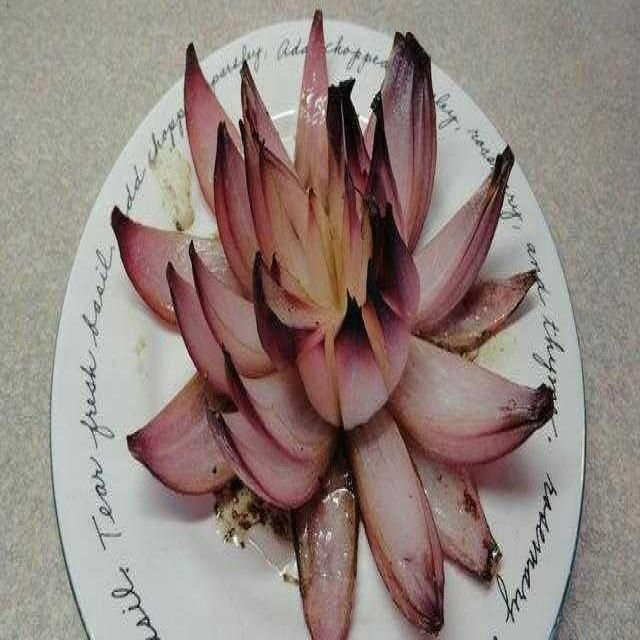onion: (109, 9, 556, 640)
